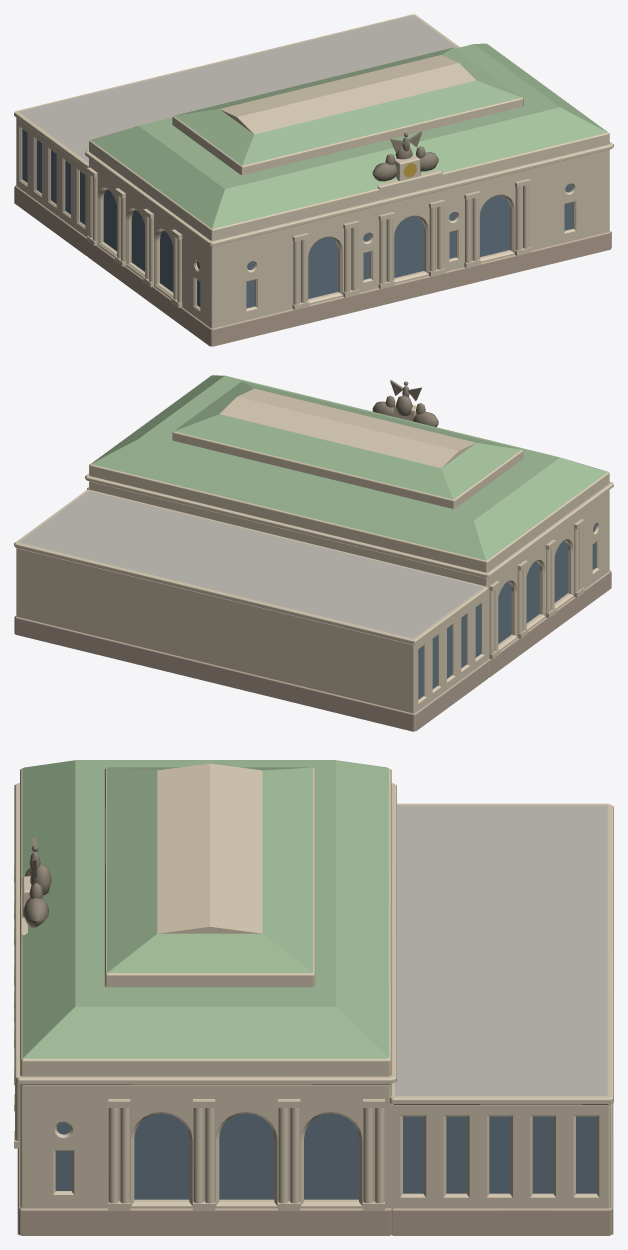
File: grand-central-terminal.glb
3 renders of one model, top to bottom at view 1: azimuth 30°, elevation 25°; view 2: azimuth 150°, elevation 25°; view 3: azimuth 270°, elevation 25°, orthographic. The views are drawn at different scales.
Parts seen in each view (by area): view 1: Grand Central Terminal; view 2: Grand Central Terminal; view 3: Grand Central Terminal.
Boxes of the visible parts, <box> form: Grand Central Terminal: <box>14,14,613,346</box>; Grand Central Terminal: <box>14,375,613,731</box>; Grand Central Terminal: <box>14,760,613,1235</box>.
Bounding box in the file's own units: 121 × 45.8 × 102.
